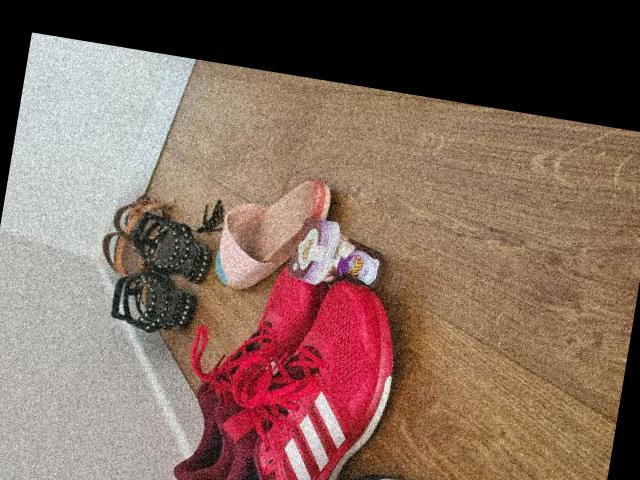milky: (290, 216, 387, 297)
